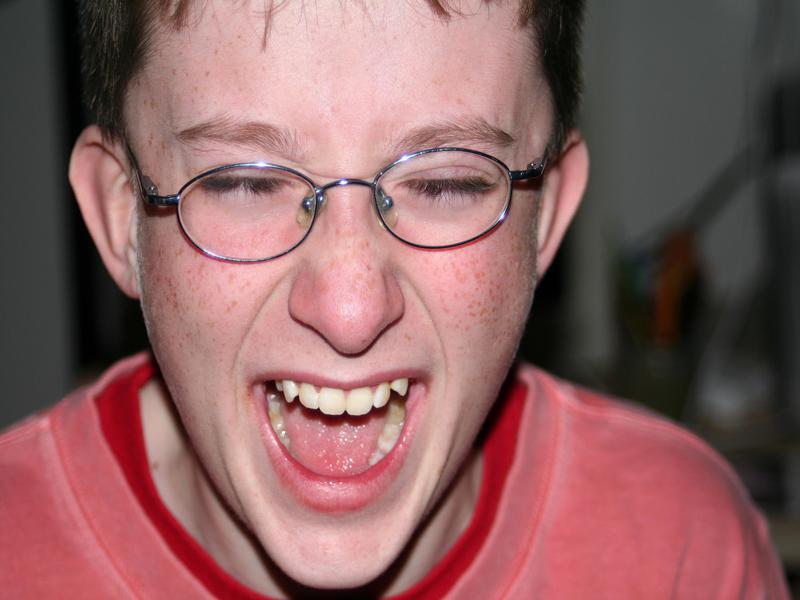person: (1, 2, 795, 600)
